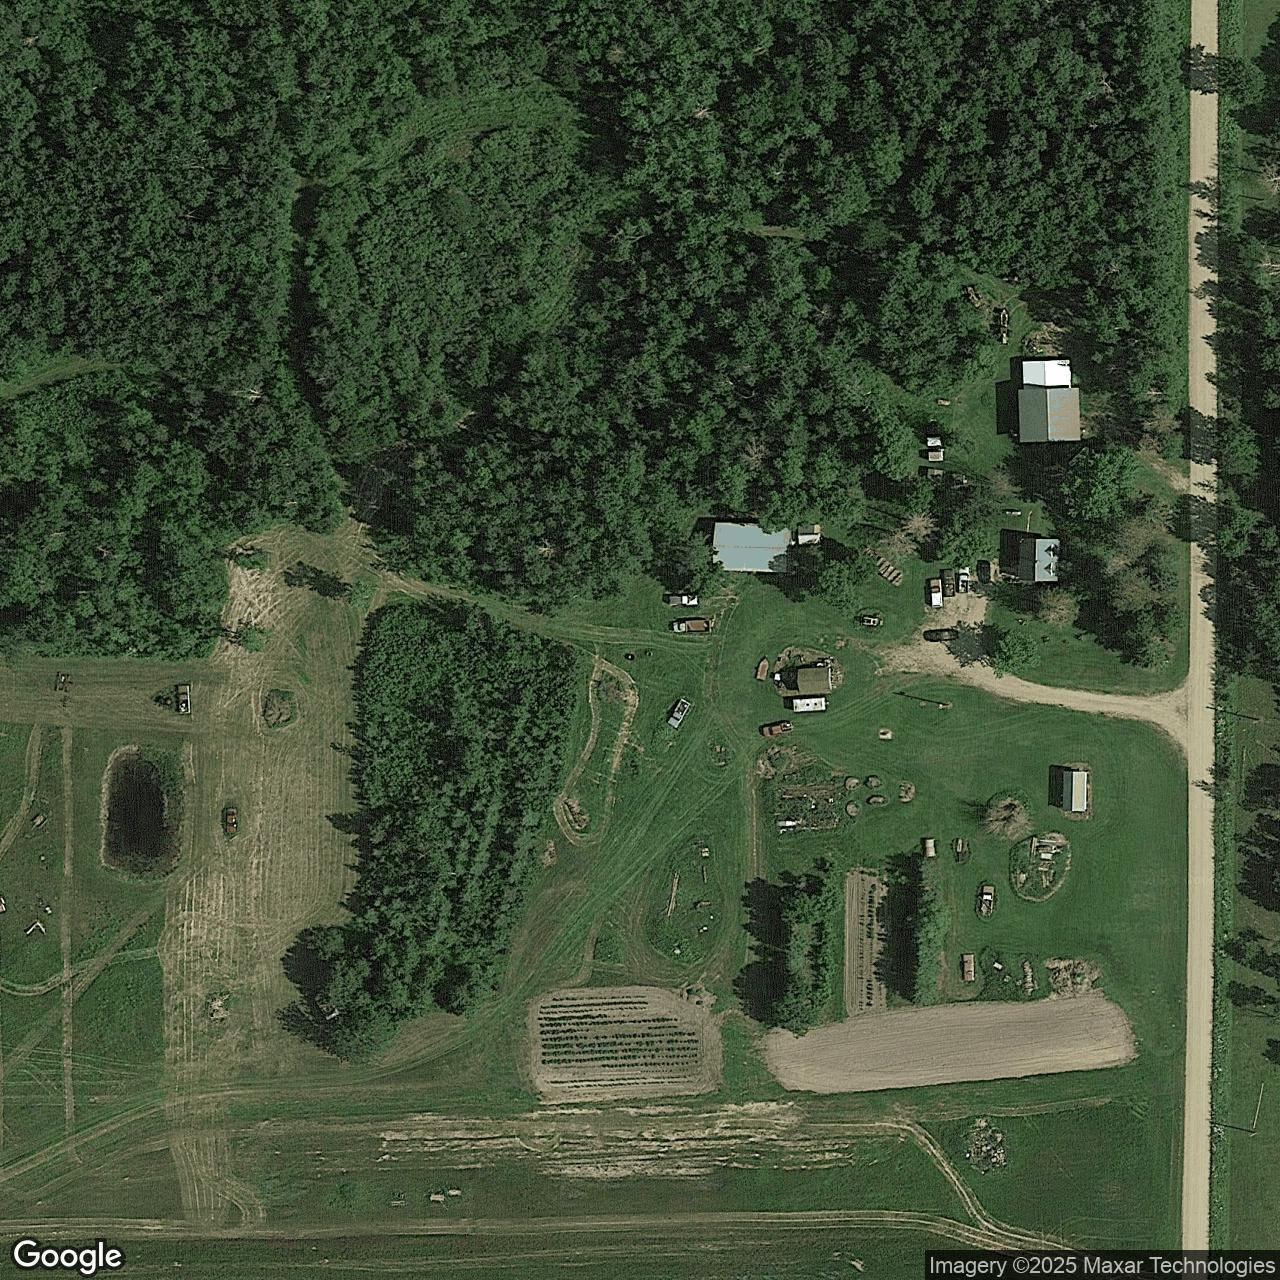Garage: (1062, 771, 1087, 811), (797, 668, 832, 694)
House: (1017, 360, 1082, 443), (713, 523, 794, 573), (1019, 537, 1060, 581)
